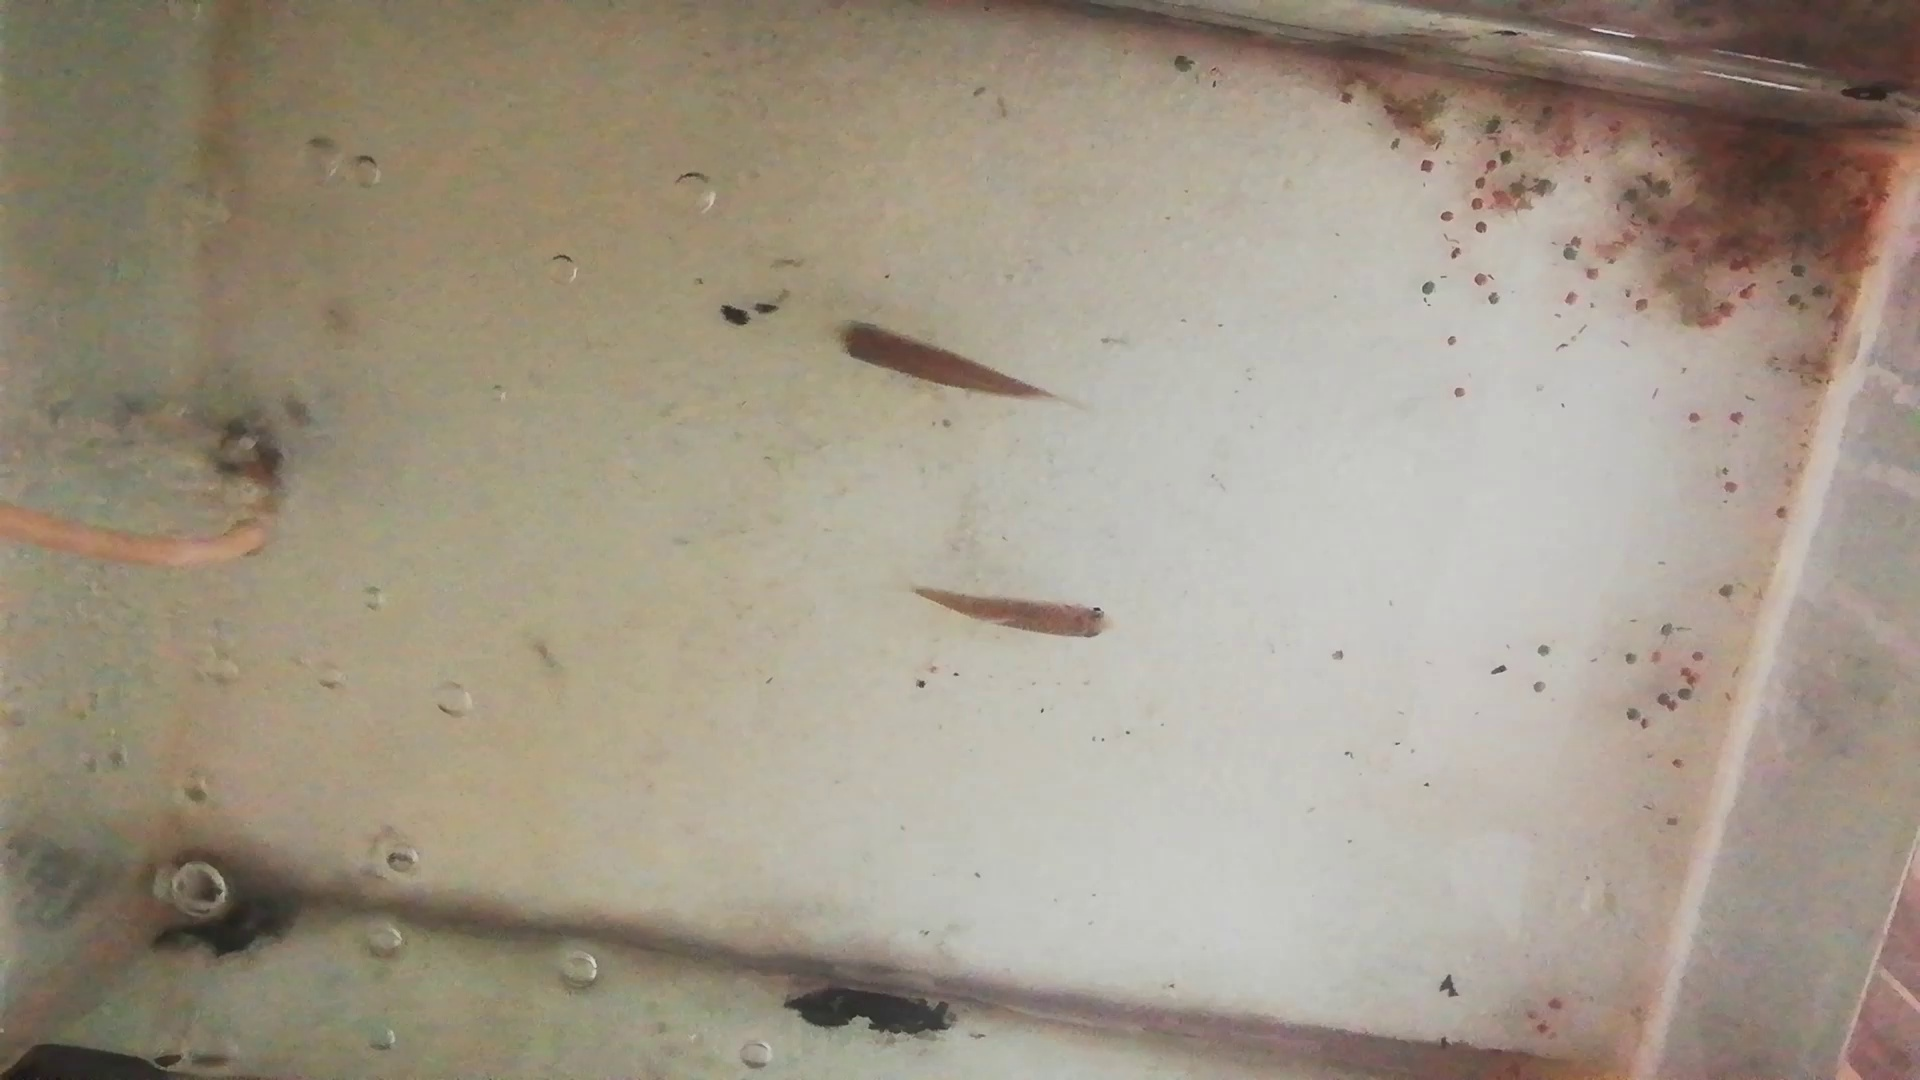fish: (822, 307, 1062, 415), (910, 582, 1116, 641)
